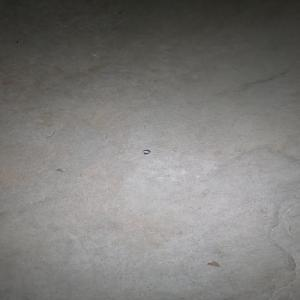Nut: (141, 149, 151, 155)
